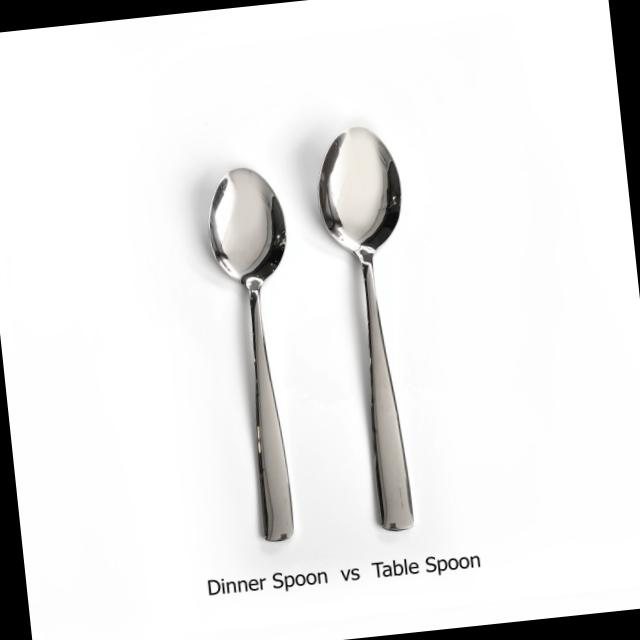spoon: (299, 103, 452, 560)
